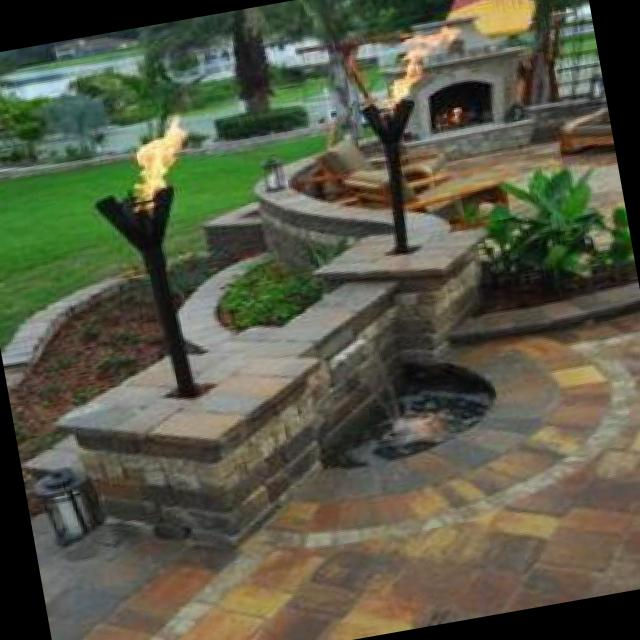Fire: (367, 18, 472, 118), (112, 102, 204, 204)
